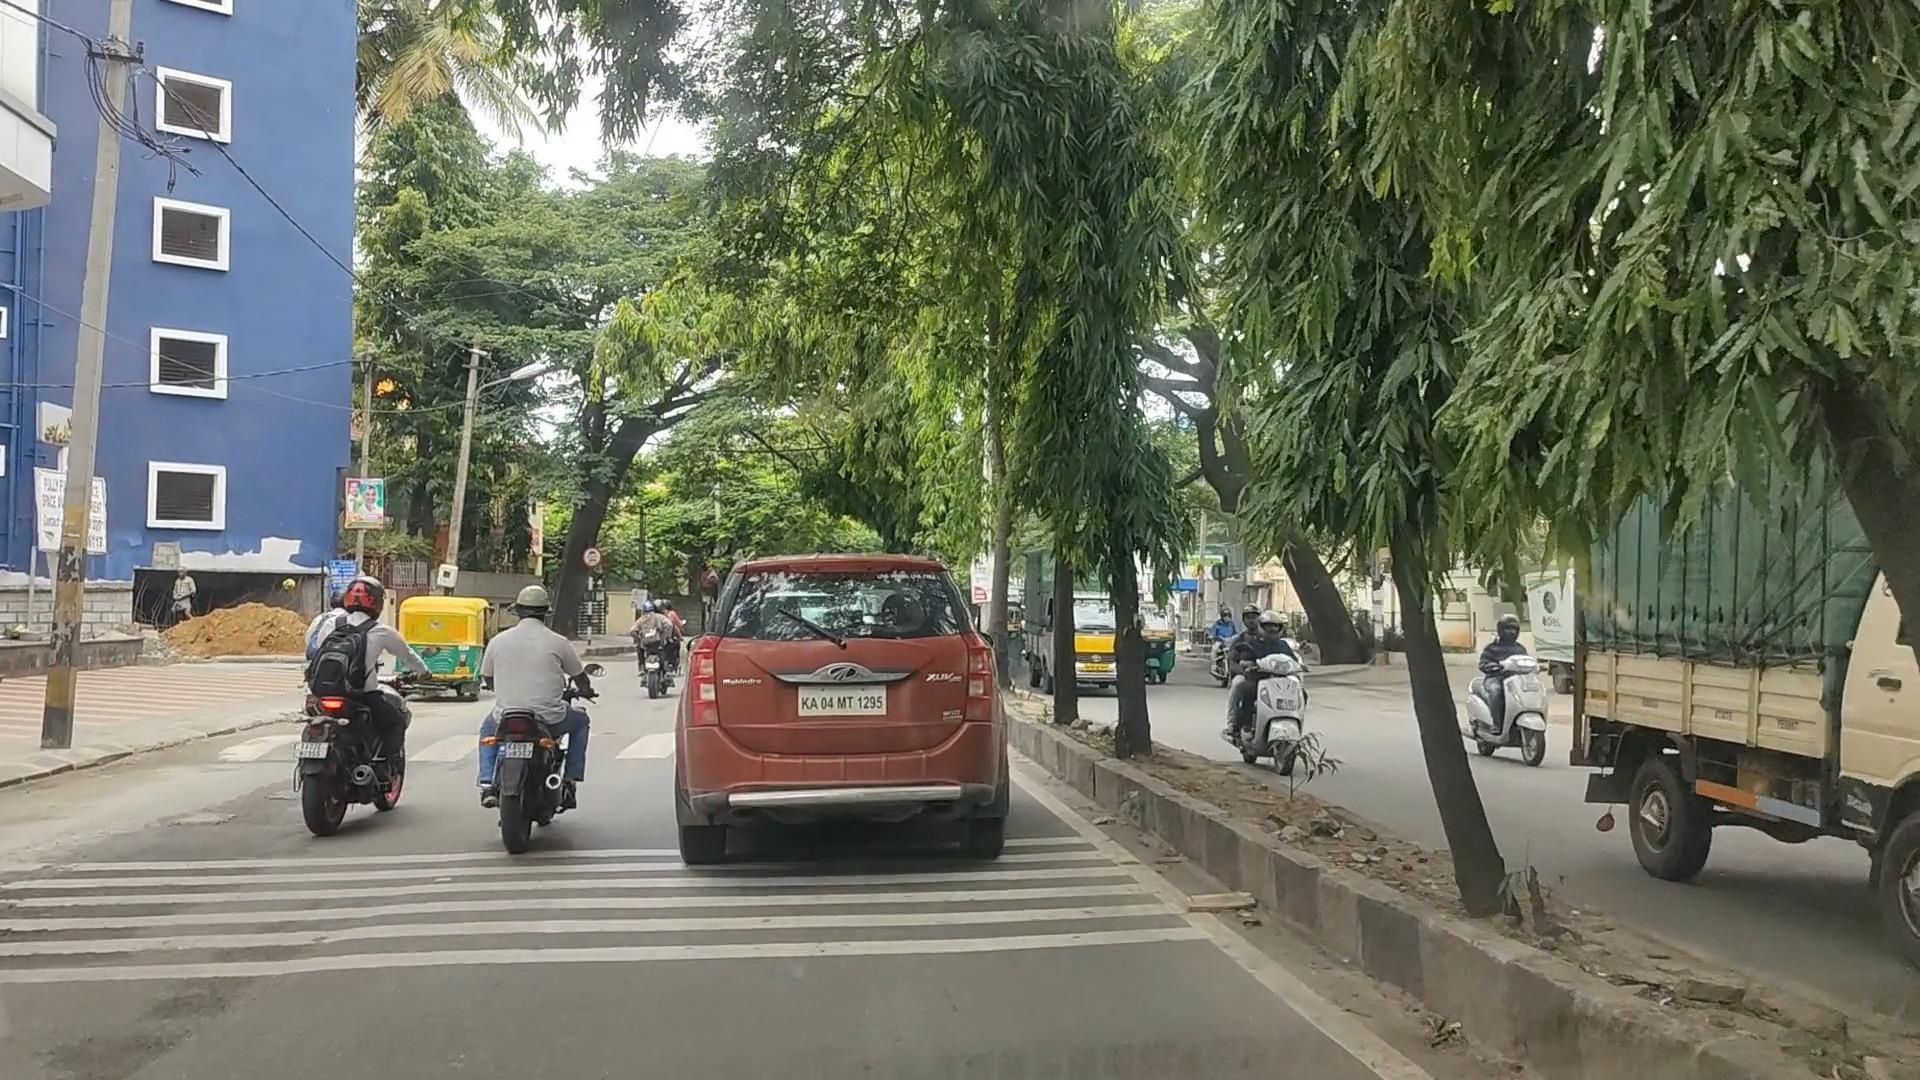LMV: (700, 564, 982, 843), (302, 578, 410, 820), (488, 588, 575, 851)
SpeedBump: (67, 848, 1158, 980)
